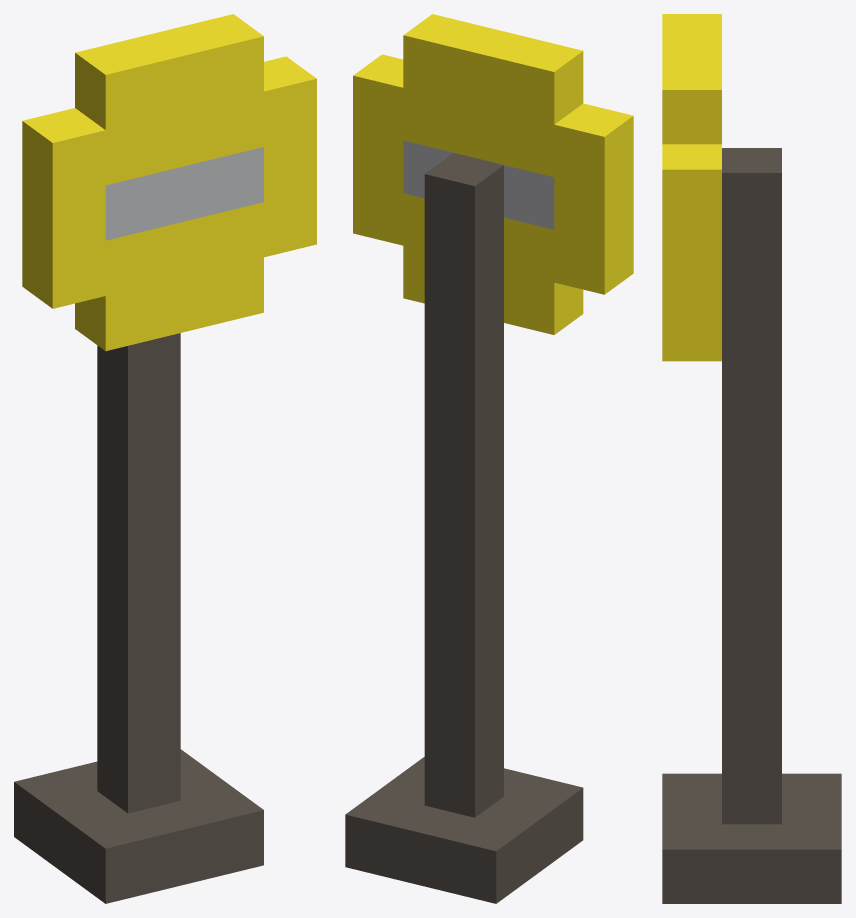
Rendered from traffic_sign_a_c.obj.
The picture shows the model from 3 angles, left to right: view 1: azimuth 30°, elevation 25°; view 2: azimuth 150°, elevation 25°; view 3: azimuth 270°, elevation 25°; orthographic projection. The views are drawn at different scales.
Bounding box in the file's own units: 0.5 × 1.5 × 0.3.
Materials: 1 (1 with a texture image).
